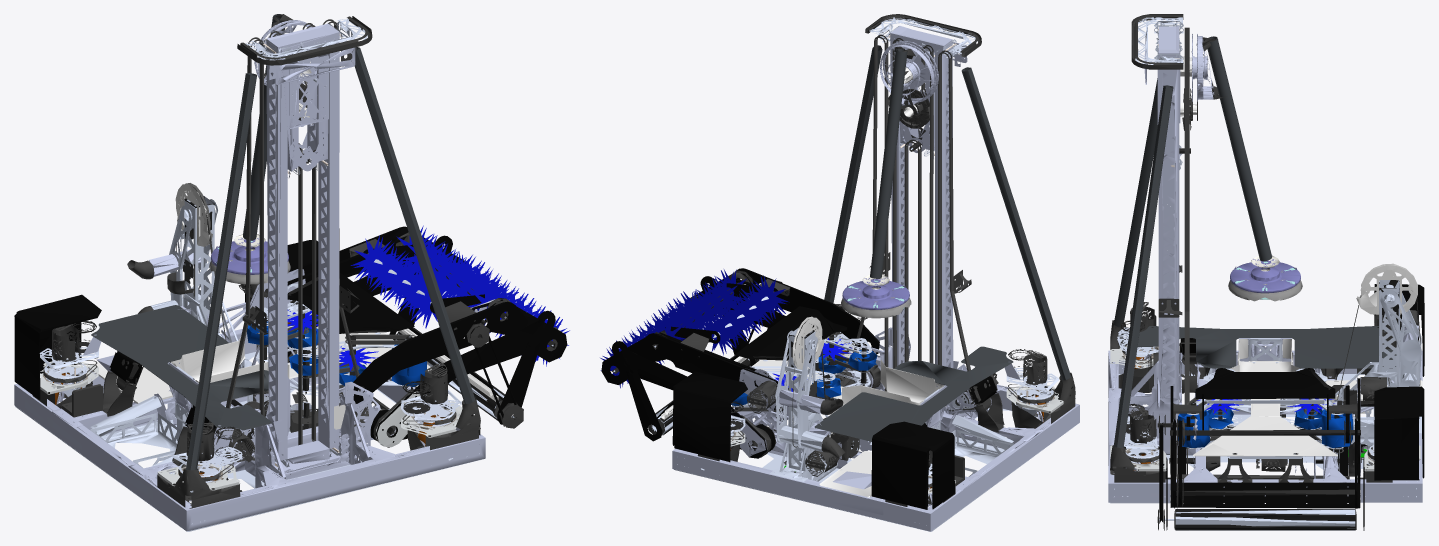
3 renders of one model, left to right at view 1: azimuth 30°, elevation 25°; view 2: azimuth 150°, elevation 25°; view 3: azimuth 270°, elevation 25°, orthographic. The views are drawn at different scales.
Parts seen in each view (by area): view 1: body.mat_0, body.mat_23, body.mat_1, stage.mat_0, body.mat_2, body.mat_10, body.mat_6, body.mat_26, body.mat_12, car.mat_0, body.mat_18, body.mat_3 (+7 smaller); view 2: body.mat_23, body.mat_0, body.mat_1, body.mat_2, body.mat_6, stage.mat_0, body.mat_10, body.mat_26, body.mat_12, car.mat_1, car.mat_0, body.mat_3 (+7 smaller); view 3: body.mat_23, body.mat_2, body.mat_1, body.mat_0, body.mat_10, stage.mat_0, body.mat_12, car.mat_1, body.mat_6, body.mat_21, body.mat_27, body.mat_37 (+8 smaller).
Boxes of the visible parts, x1,y1,x2,y2 form: body.mat_0: (14, 47, 494, 531); body.mat_23: (14, 226, 567, 447); body.mat_1: (91, 47, 475, 470); stage.mat_0: (266, 23, 339, 463); body.mat_2: (15, 18, 514, 531); body.mat_10: (32, 50, 561, 508); body.mat_6: (43, 19, 456, 481); body.mat_26: (287, 225, 569, 371); body.mat_12: (87, 183, 498, 403); car.mat_0: (254, 20, 328, 171); body.mat_18: (40, 309, 462, 490); body.mat_3: (103, 16, 372, 465); body.mat_23: (601, 268, 996, 509); body.mat_0: (672, 42, 1079, 531); body.mat_1: (814, 45, 1071, 441); body.mat_2: (652, 17, 1078, 531); body.mat_6: (730, 34, 1054, 487); stage.mat_0: (890, 26, 958, 387); body.mat_10: (648, 252, 1075, 506); body.mat_26: (600, 269, 852, 391); body.mat_12: (661, 316, 944, 497); car.mat_1: (870, 49, 907, 278); car.mat_0: (879, 41, 948, 152); body.mat_3: (865, 14, 1004, 471); body.mat_23: (1159, 284, 1424, 530); body.mat_2: (1109, 17, 1421, 530); body.mat_1: (1113, 78, 1396, 447); body.mat_0: (1108, 37, 1422, 502); body.mat_10: (1110, 265, 1420, 530); stage.mat_0: (1158, 26, 1179, 421); body.mat_12: (1170, 263, 1422, 503); car.mat_1: (1206, 36, 1271, 261); body.mat_6: (1122, 27, 1374, 462); body.mat_21: (1175, 280, 1399, 530); body.mat_27: (1178, 408, 1353, 447); body.mat_37: (1230, 259, 1300, 293).
Size of the model in its own units: 1.08 by 1.07 by 0.7593.
